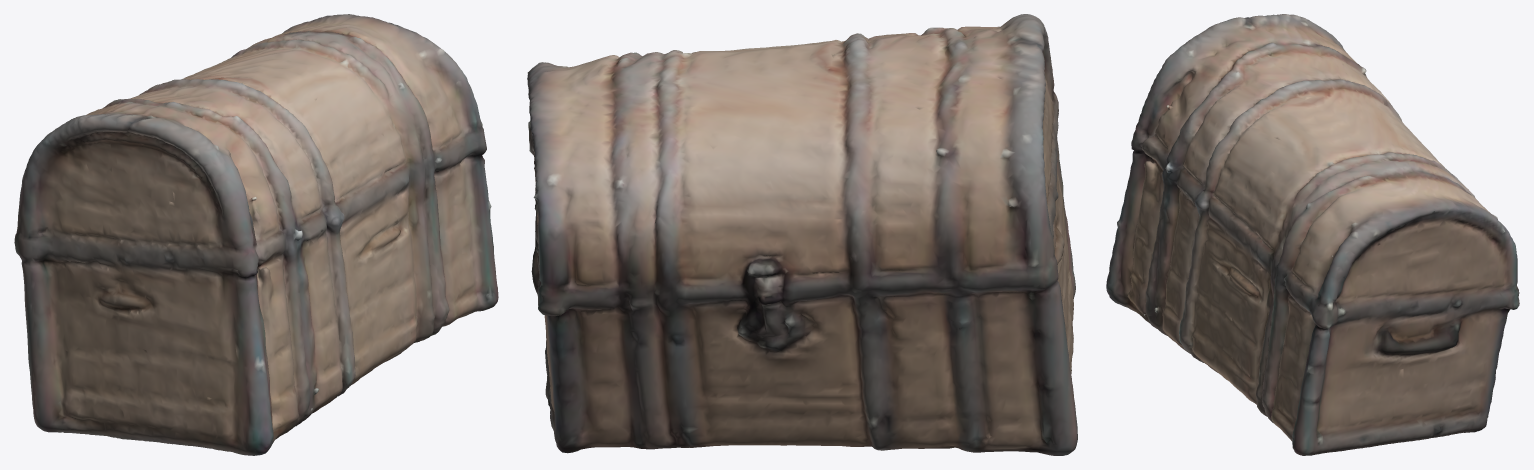
File: r3d_pic_triposr.glb
The picture shows the model from 3 angles, left to right: view 1: azimuth 30°, elevation 25°; view 2: azimuth 150°, elevation 25°; view 3: azimuth 270°, elevation 25°; orthographic projection. The views are drawn at different scales.
Parts seen in each view (by area): view 1: treasure_chest; view 2: treasure_chest; view 3: treasure_chest.
Boxes of the visible parts, box(x1,y1,x2,y2) form: treasure_chest: box(14, 14, 498, 455); treasure_chest: box(527, 14, 1077, 455); treasure_chest: box(1106, 14, 1519, 455).
Size of what is drawn, in the model's own units: 0.6001 by 0.41 by 0.5211.
